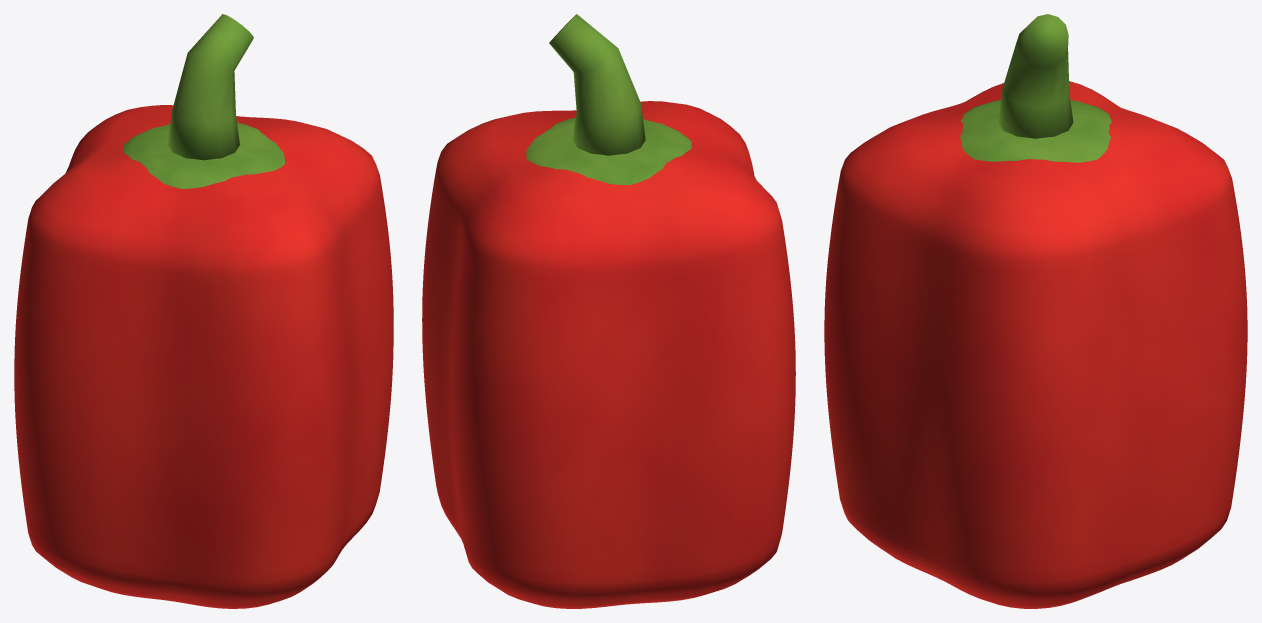
File: Pepper.fbx
3 renders of one model, left to right at view 1: azimuth 30°, elevation 25°; view 2: azimuth 150°, elevation 25°; view 3: azimuth 270°, elevation 25°, orthographic. The views are drawn at different scales.
Visible parts, largest first — view 1: Pepper; view 2: Pepper; view 3: Pepper.
Boxes of the visible parts, x1,y1,x2,y2 form: Pepper: (14, 14, 393, 608); Pepper: (422, 14, 795, 608); Pepper: (824, 14, 1247, 608).
Size of the model in its own units: 70.86 by 105 by 70.86.
